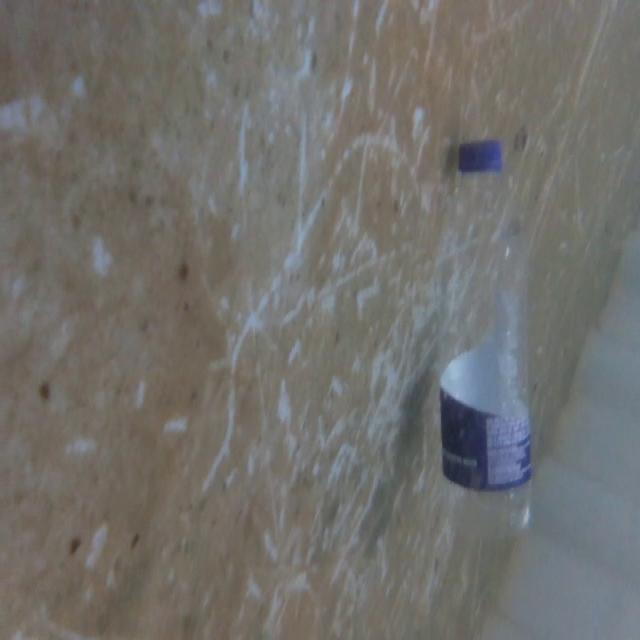plastic bottle: (433, 123, 548, 545)
